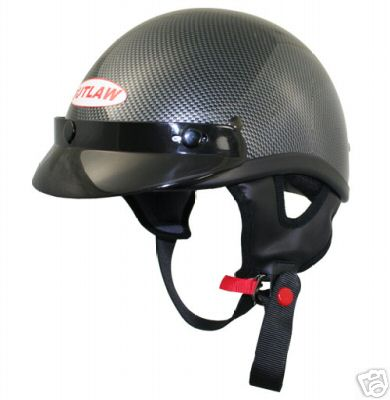helmet: (56, 18, 357, 208)
